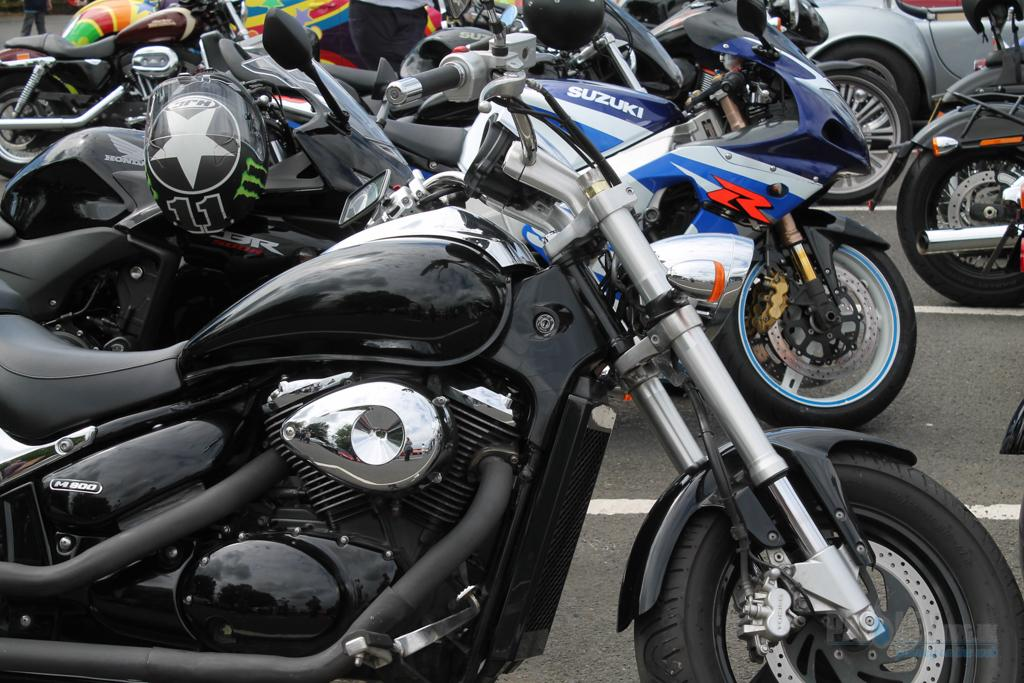helmet: (144, 72, 270, 235)
